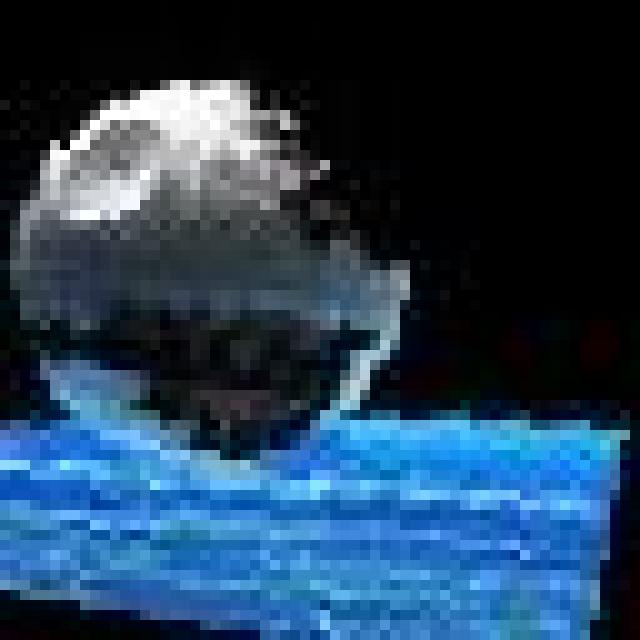Death Star: (18, 76, 421, 462)
